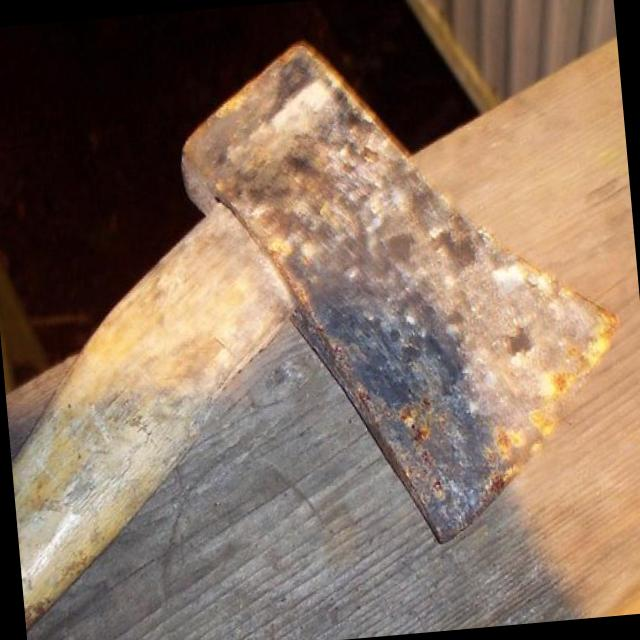Axe: (12, 44, 615, 624)
